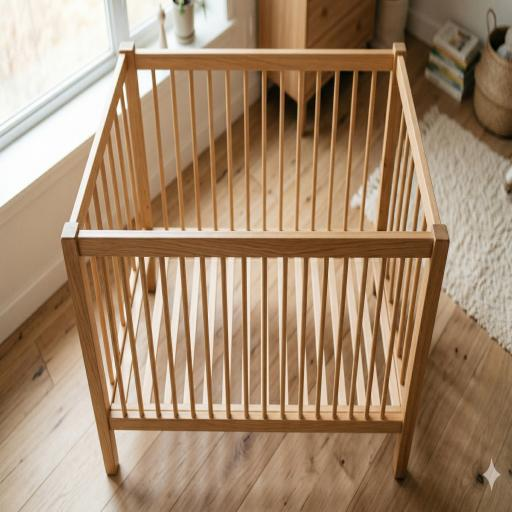crib: (62, 44, 448, 477)
